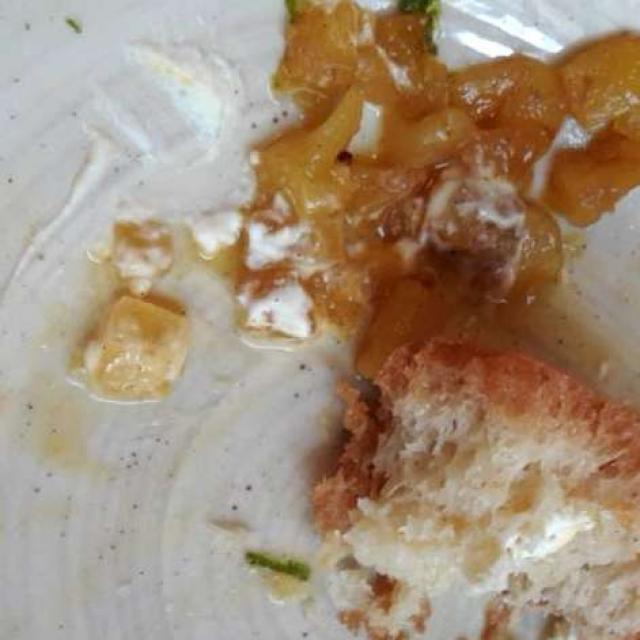pineapple: (81, 6, 638, 402)
tart: (314, 334, 636, 630)
